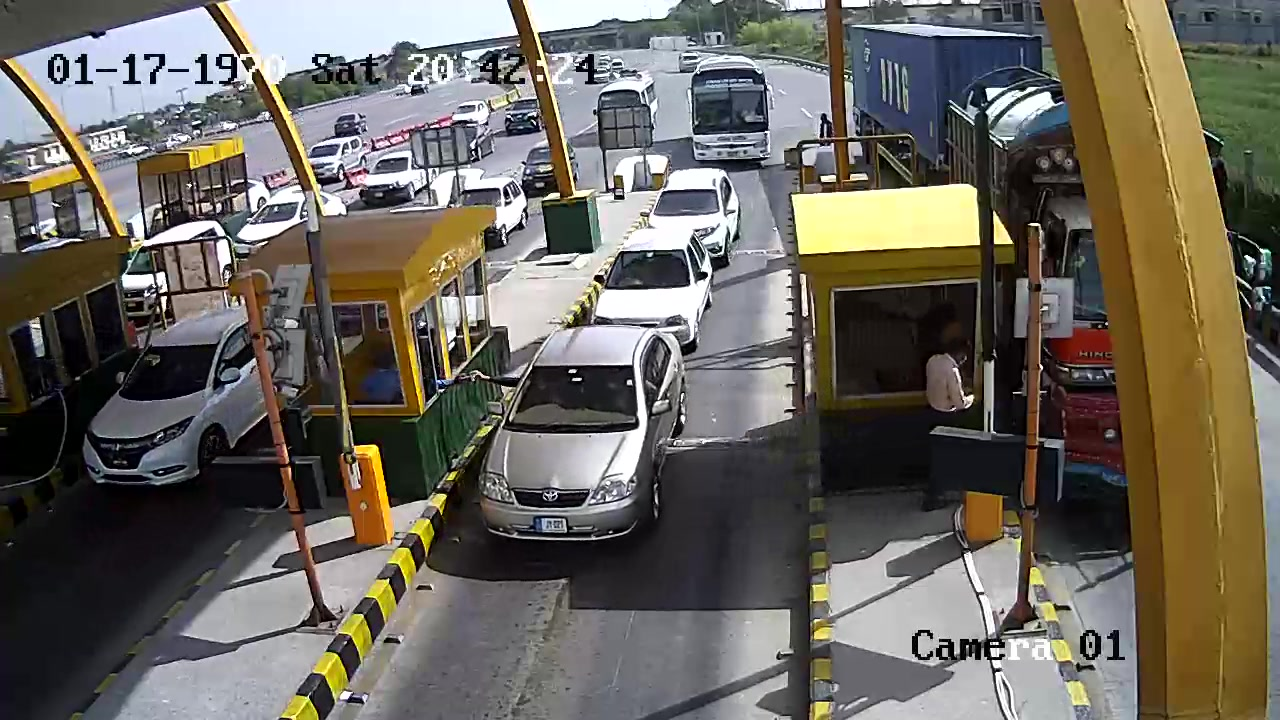F1: (479, 316, 693, 568), (596, 233, 715, 354)
